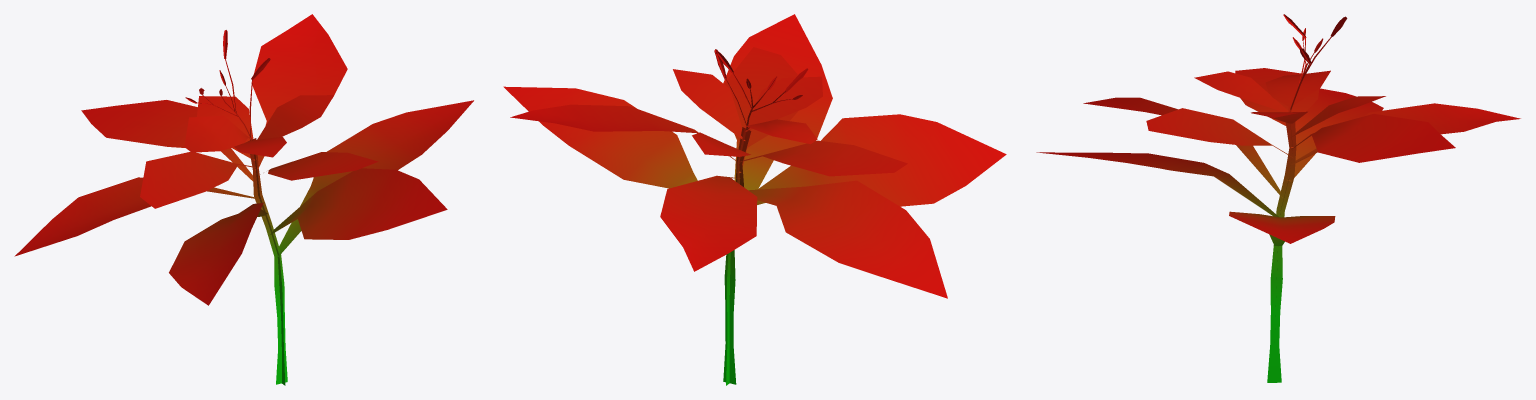
Rendered from Small Balsam_LOD2_Var2_xefmcgrqx.fbx.
3 views of the same model, side by side, from view 1: azimuth 30°, elevation 25°; view 2: azimuth 150°, elevation 25°; view 3: azimuth 270°, elevation 25° (orthographic). The views are drawn at different scales.
Parts seen in each view (by area): view 1: _md2r_Var2_LOD2; view 2: _md2r_Var2_LOD2; view 3: _md2r_Var2_LOD2.
Boxes of the visible parts, x1,y1,x2,y2 form: _md2r_Var2_LOD2: [14, 14, 473, 385]; _md2r_Var2_LOD2: [503, 14, 1006, 385]; _md2r_Var2_LOD2: [1036, 14, 1520, 382].
Bounding box in the file's own units: 39.16 × 28.82 × 35.83.
